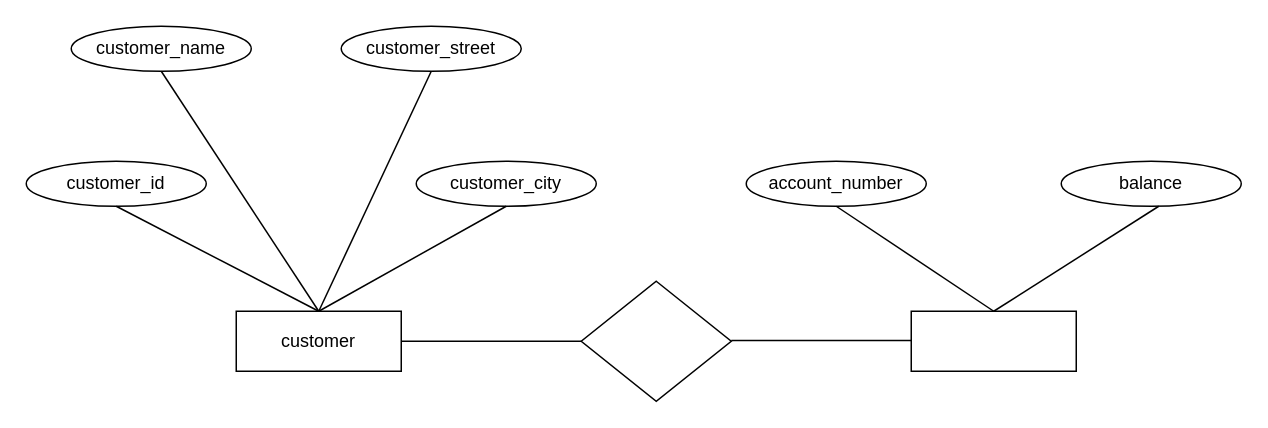
Some shapes in this 1268 by 428 pixel diagram are drawn without their labels. The centre of each missing label's shape, as x and y in pixels:
"account" belongs at pixel 993 340.
"depositor" belongs at pixel 655 340.
